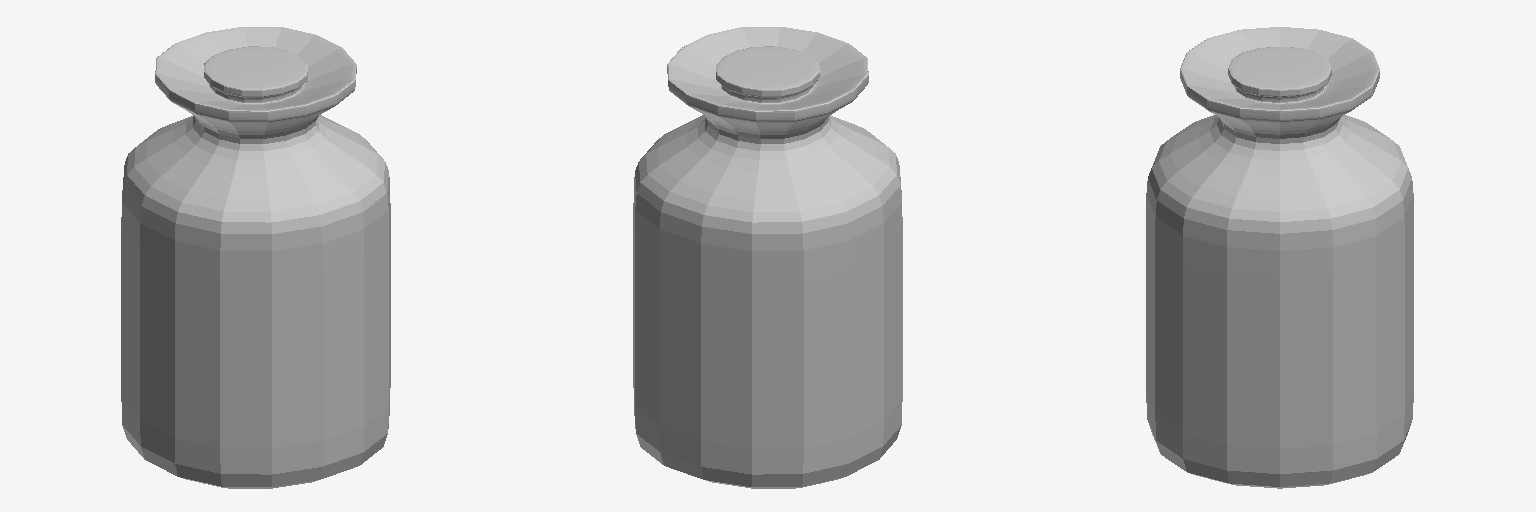
Rendered from CumBedon.obj.
3 views of the same model, side by side, from view 1: azimuth 30°, elevation 25°; view 2: azimuth 150°, elevation 25°; view 3: azimuth 270°, elevation 25° (orthographic).
Visible parts, largest first — view 1: Cube; view 2: Cube; view 3: Cube.
Part boxes in pixels (bbox=[...]): Cube: bbox=[121, 27, 390, 488]; Cube: bbox=[633, 27, 902, 488]; Cube: bbox=[1146, 27, 1413, 488].
Bounding box in the file's own units: 0.8309 × 1.29 × 0.8309.